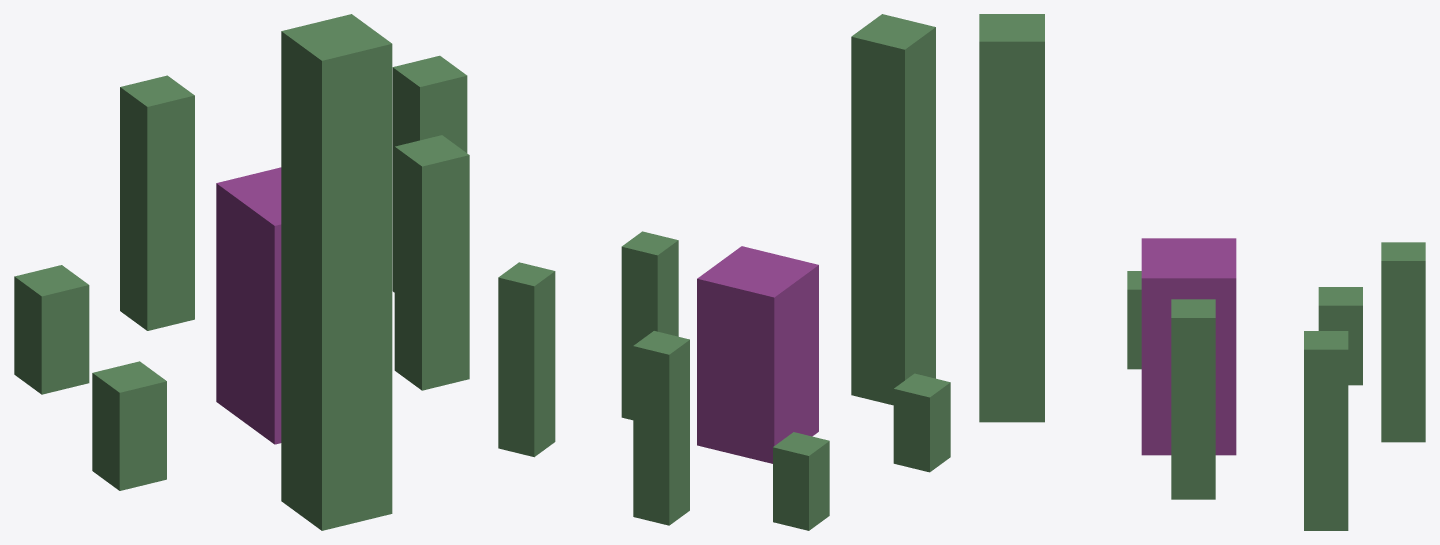
File: PlantB_001.fbx
3 renders of one model, left to right at view 1: azimuth 30°, elevation 25°; view 2: azimuth 150°, elevation 25°; view 3: azimuth 270°, elevation 25°, orthographic. The views are drawn at different scales.
Visible parts, largest first — view 1: PlantB_001; view 2: PlantB_001; view 3: PlantB_001.
Part boxes in pixels (box(x1,y1,x2,y2)): PlantB_001: box(14, 14, 469, 530); PlantB_001: box(498, 14, 950, 530); PlantB_001: box(979, 14, 1425, 530).
Bounding box in the file's own units: 0.2581 × 0.2538 × 0.2698.
